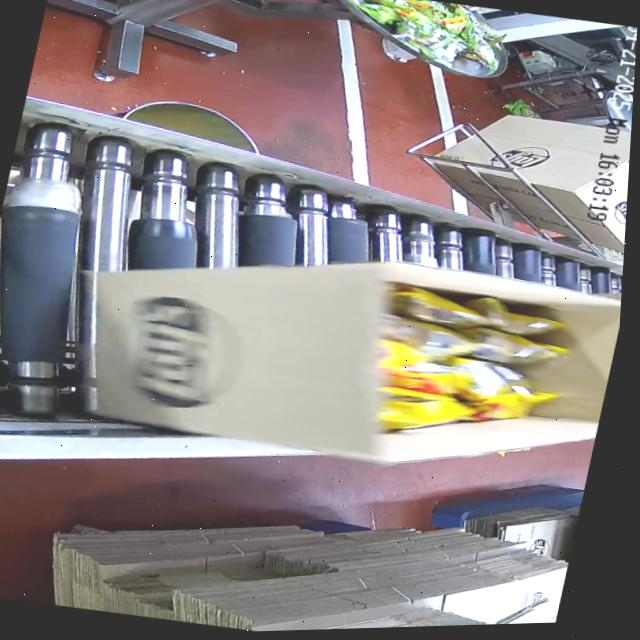SALTED: (366, 276, 576, 458)
